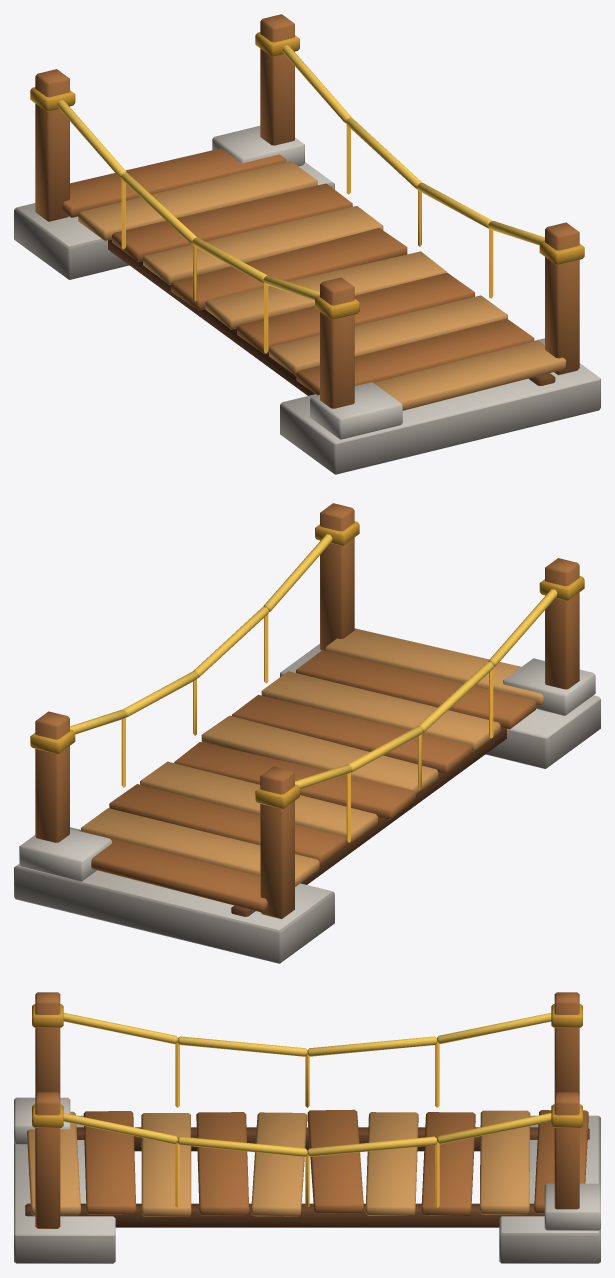
The model's file is B_MedRopeBridge.fbx.
3 views of the same model, one above another, from view 1: azimuth 30°, elevation 25°; view 2: azimuth 150°, elevation 25°; view 3: azimuth 270°, elevation 25° (orthographic). The views are drawn at different scales.
Parts seen in each view (by area): view 1: M_RopeBridge; view 2: M_RopeBridge; view 3: M_RopeBridge.
Boxes of the visible parts, x1=… form: M_RopeBridge: x1=14, y1=14, x2=600, y2=474; M_RopeBridge: x1=14, y1=503, x2=600, y2=963; M_RopeBridge: x1=14, y1=992, x2=600, y2=1263.
Size of the model in its own units: 2.5 by 1.55 by 5.2.
Materials: 1 (1 with a texture image).
